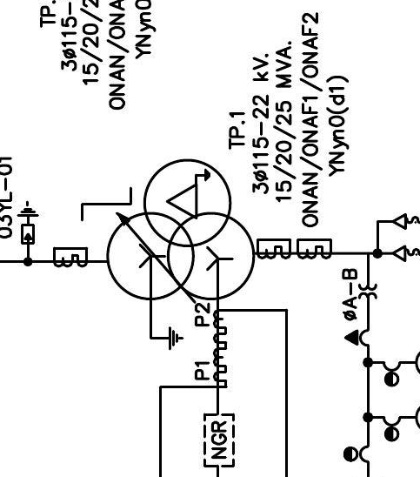11522_tx_ynyn0d1: (105, 158, 256, 301)
115_la: (16, 200, 40, 245)
terminator_double: (376, 213, 407, 263)
